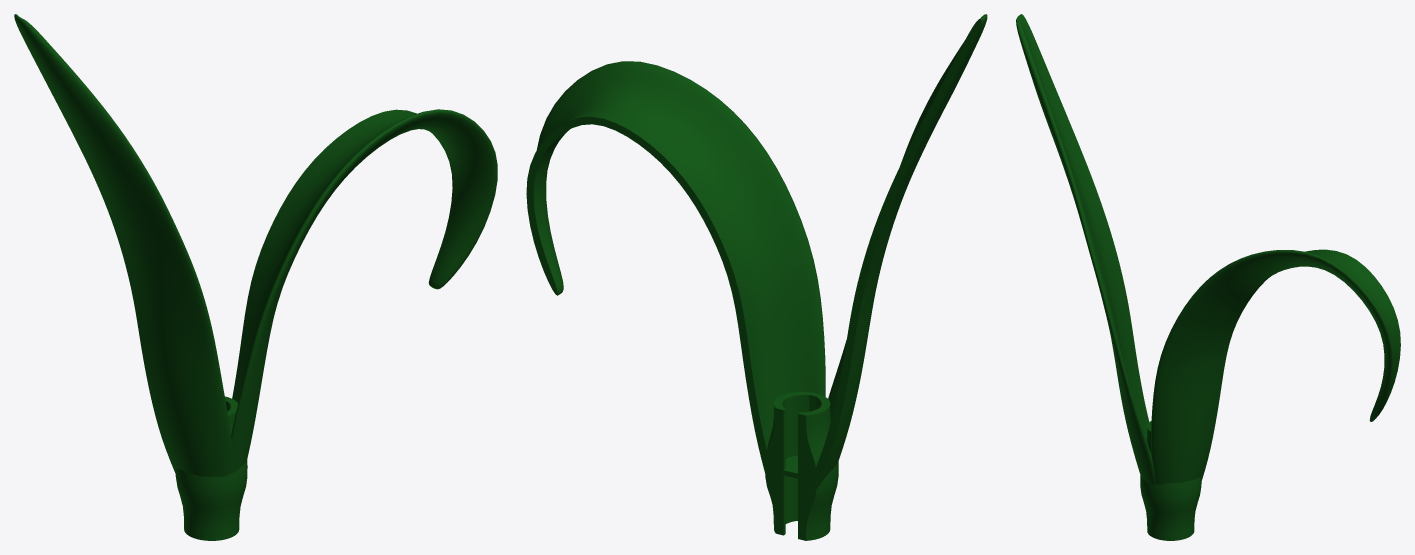
The model's file is c_tulip_leaf_a_r.glb.
3 views of the same model, side by side, from view 1: azimuth 30°, elevation 25°; view 2: azimuth 150°, elevation 25°; view 3: azimuth 330°, elevation 25° (orthographic). The views are drawn at different scales.
Visible parts, largest first — view 1: tulip_leaf_a_r1, tulip_leaf_a_r2, connector; view 2: tulip_leaf_a_r2, tulip_leaf_a_r1, connector; view 3: tulip_leaf_a_r2, tulip_leaf_a_r1, connector.
Boxes of the visible parts, left/top/right/bottom form: tulip_leaf_a_r1: left=14, top=14, right=231, bottom=477; tulip_leaf_a_r2: left=230, top=109, right=497, bottom=473; connector: left=175, top=396, right=247, bottom=540; tulip_leaf_a_r2: left=526, top=61, right=825, bottom=473; tulip_leaf_a_r1: left=816, top=14, right=987, bottom=488; connector: left=765, top=391, right=838, bottom=540; tulip_leaf_a_r2: left=1151, top=249, right=1400, bottom=484; tulip_leaf_a_r1: left=1016, top=14, right=1155, bottom=484; connector: left=1140, top=421, right=1201, bottom=540.
Size of the model in its own units: 0.098 by 0.1126 by 0.0167.
